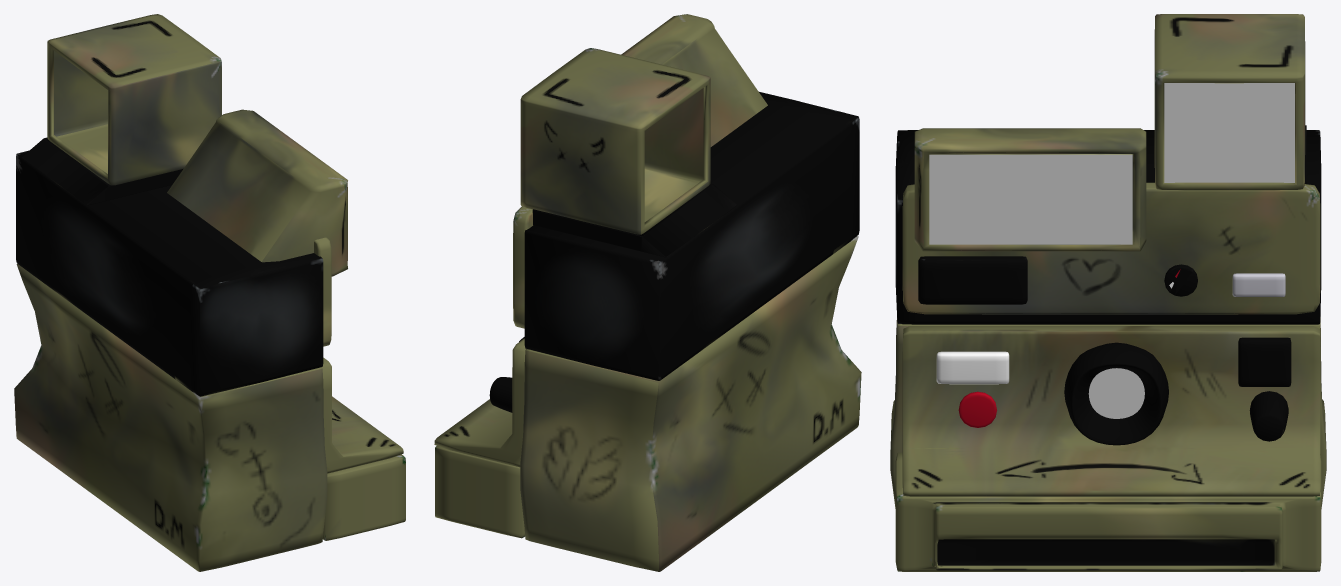
Rendered from cam.fbx.
3 views of the same model, side by side, from view 1: azimuth 30°, elevation 25°; view 2: azimuth 150°, elevation 25°; view 3: azimuth 270°, elevation 25° (orthographic). The views are drawn at different scales.
Parts seen in each view (by area): view 1: Plane.045; view 2: Plane.045; view 3: Plane.045, Plane.046.
Part boxes in pixels (x1,y1,x2,y2): Plane.045: (14,14,405,571); Plane.045: (434,14,861,571); Plane.045: (890,14,1326,571); Plane.046: (929,83,1294,418).
Bounding box in the file's own units: 135 × 236 × 203.
Materials: 2 (1 with a texture image).
